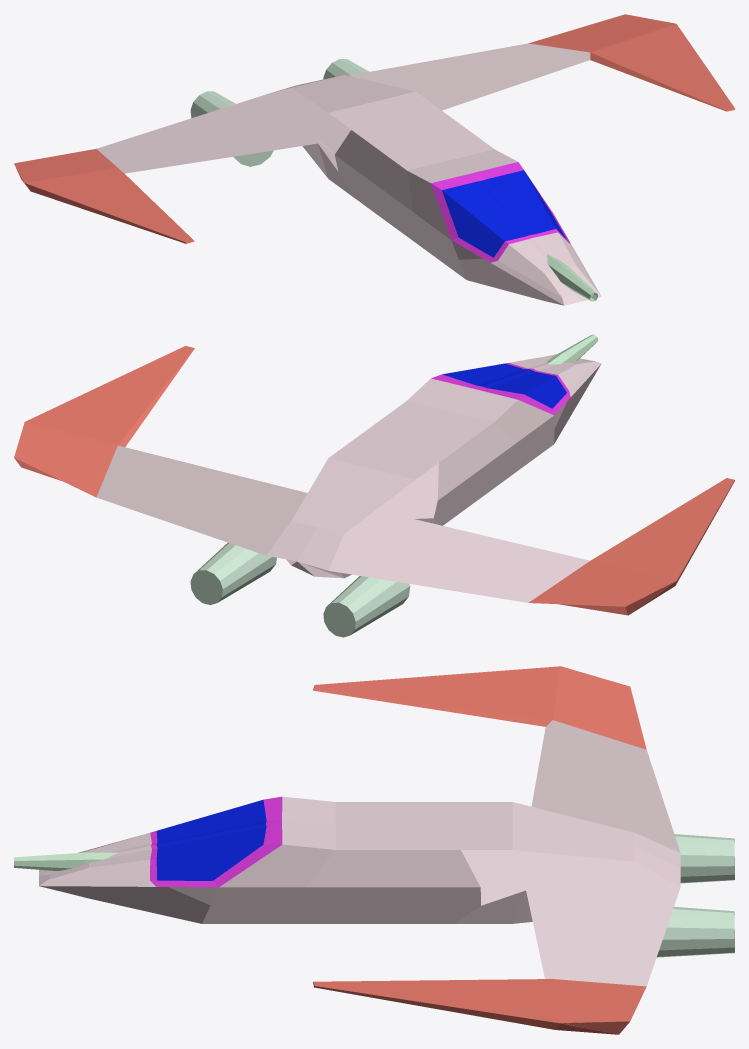
Rendered from emenyModel.fbx.
3 renders of one model, top to bottom at view 1: azimuth 30°, elevation 25°; view 2: azimuth 150°, elevation 25°; view 3: azimuth 270°, elevation 25°, orthographic. The views are drawn at different scales.
Visible parts, largest first — view 1: body, turbins, gun; view 2: body, turbins, gun; view 3: body, turbins, gun.
Boxes of the visible parts, box(x1,y1,x2,y2) form: body: box(14, 14, 734, 305); turbins: box(190, 59, 369, 166); gun: box(547, 254, 597, 301); body: box(14, 346, 734, 615); turbins: box(190, 542, 410, 637); gun: box(547, 334, 598, 364); body: box(39, 666, 680, 1034); turbins: box(656, 834, 734, 957); gun: box(14, 852, 118, 871).
Bounding box in the file's own units: 1143 × 148 × 975.
